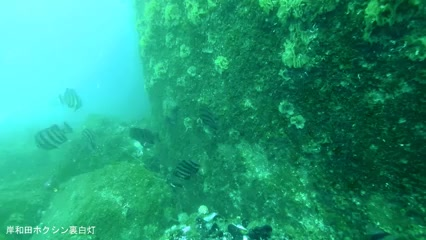ishidai: (33, 125, 71, 147)
